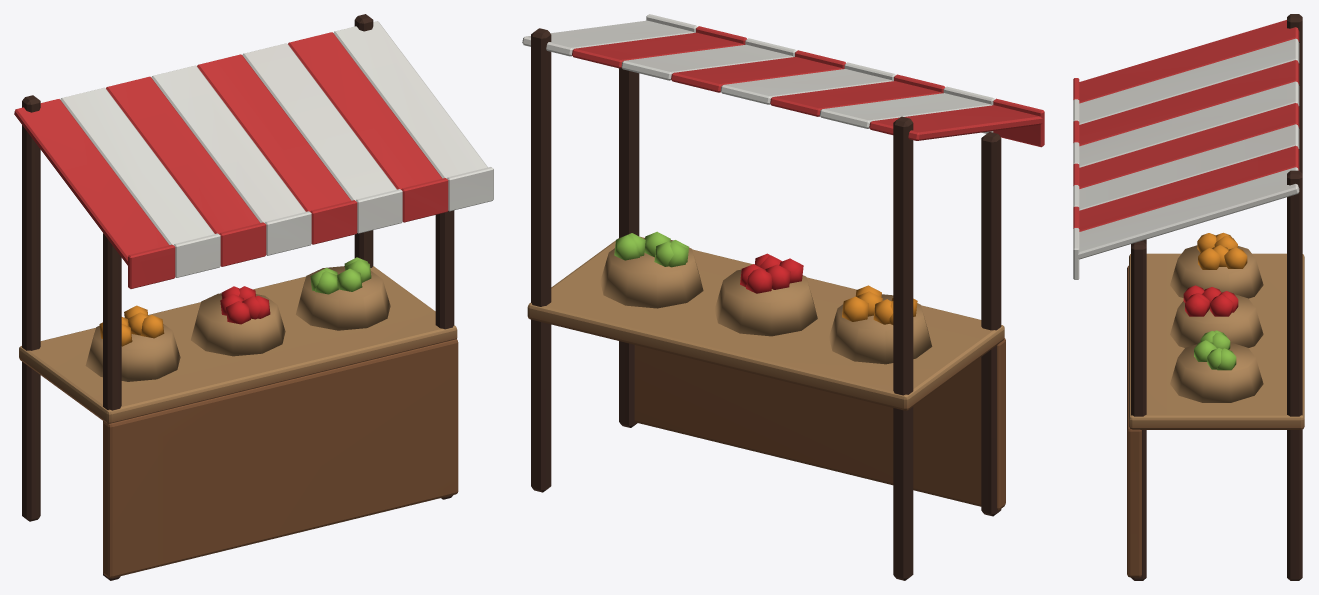
The model's file is market_stall.glb.
3 renders of one model, left to right at view 1: azimuth 30°, elevation 25°; view 2: azimuth 150°, elevation 25°; view 3: azimuth 270°, elevation 25°, orthographic. The views are drawn at different scales.
Parts seen in each view (by area): view 1: Stall; view 2: Stall; view 3: Stall.
Boxes of the visible parts, left/top/right/bottom form: Stall: left=14, top=14, right=493, bottom=580; Stall: left=522, top=14, right=1044, bottom=580; Stall: left=1073, top=14, right=1304, bottom=580.
Size of the model in its own units: 2.08 by 2.3 by 1.19.
